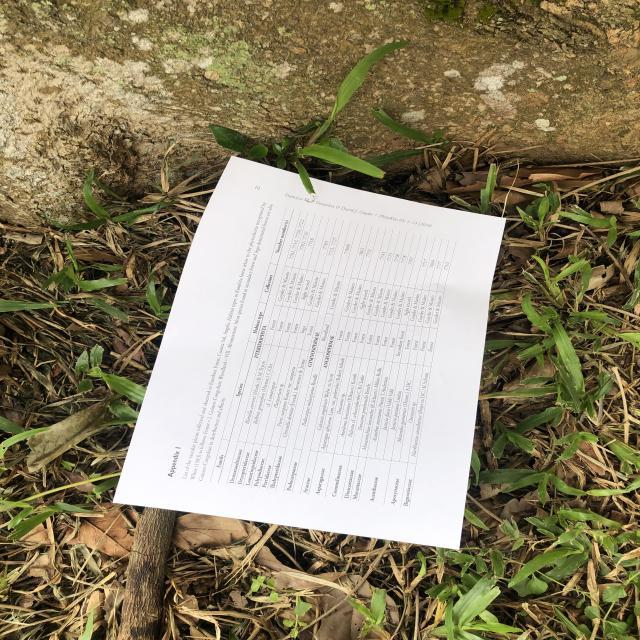kertas: (114, 147, 509, 551)
